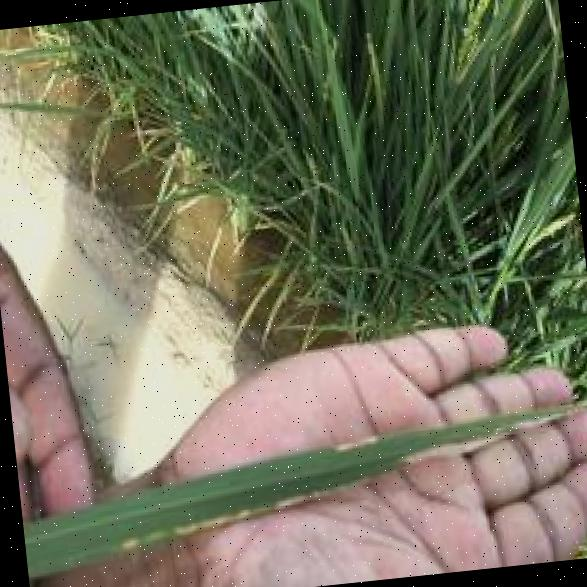Bacteria_Leaf_Blight: (101, 464, 409, 552), (318, 414, 426, 459)
